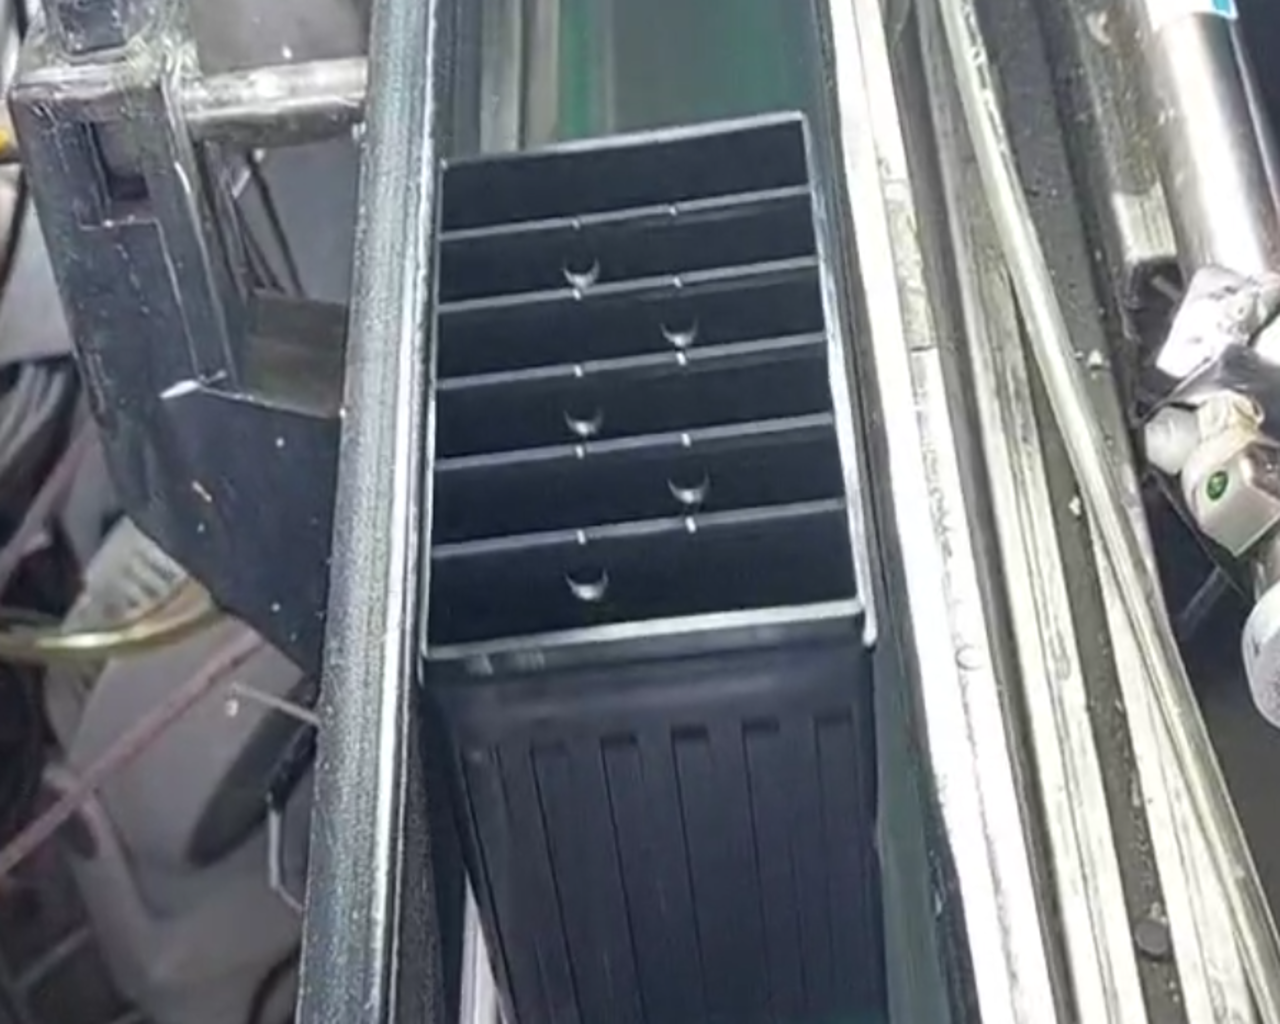box: (385, 91, 909, 691)
round: (542, 376, 622, 445), (548, 543, 624, 608), (650, 449, 725, 513), (643, 286, 717, 350), (546, 238, 613, 295)
